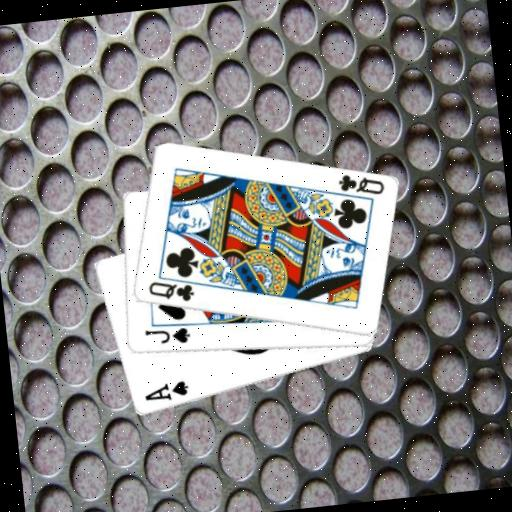AS: (140, 377, 191, 405)
JS: (142, 323, 193, 350)
QC: (334, 167, 387, 201), (144, 275, 197, 308)
